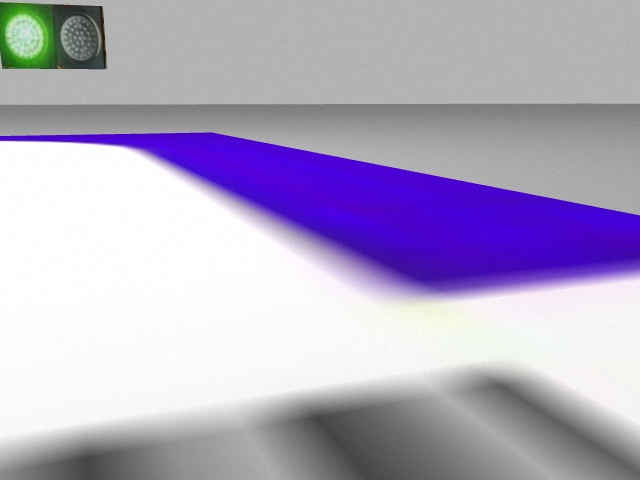green: (1, 4, 52, 71)
